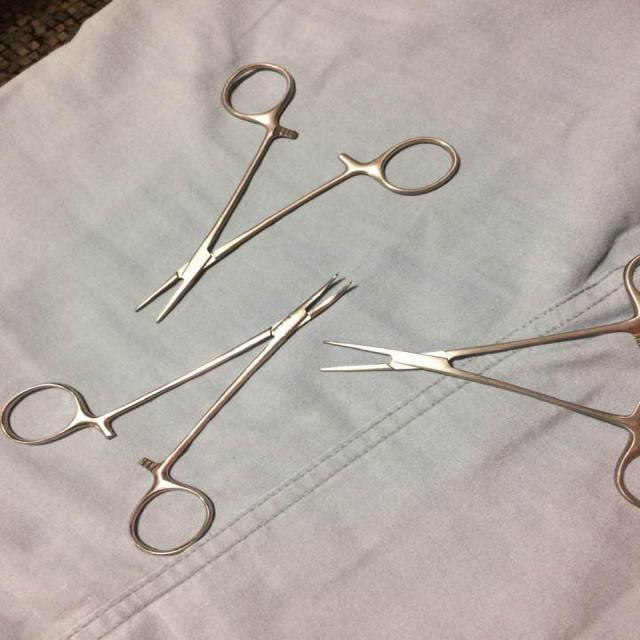Hemostat: (0, 272, 358, 560), (132, 58, 466, 330), (316, 249, 640, 512)
